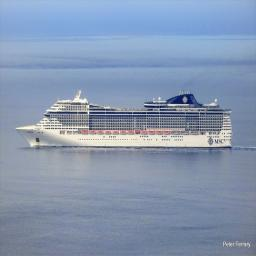cruises: (14, 87, 235, 154)
